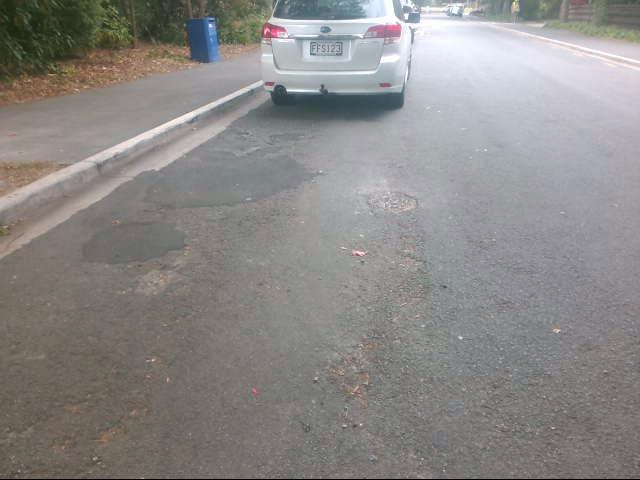pothole: (330, 345, 383, 408), (397, 226, 427, 308), (366, 190, 422, 215)
